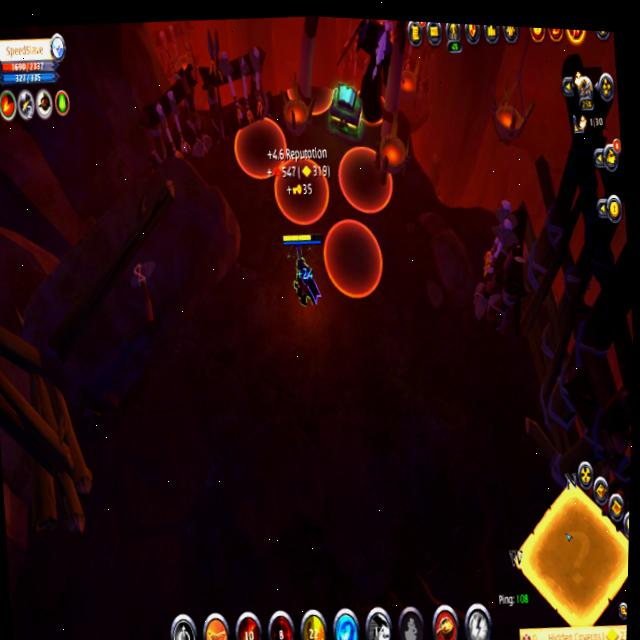ore: (340, 18, 408, 133)
red: (277, 228, 330, 319)
silver: (324, 219, 382, 297), (338, 146, 392, 211), (274, 159, 328, 223), (234, 117, 286, 178), (311, 86, 333, 114), (283, 86, 294, 98)
